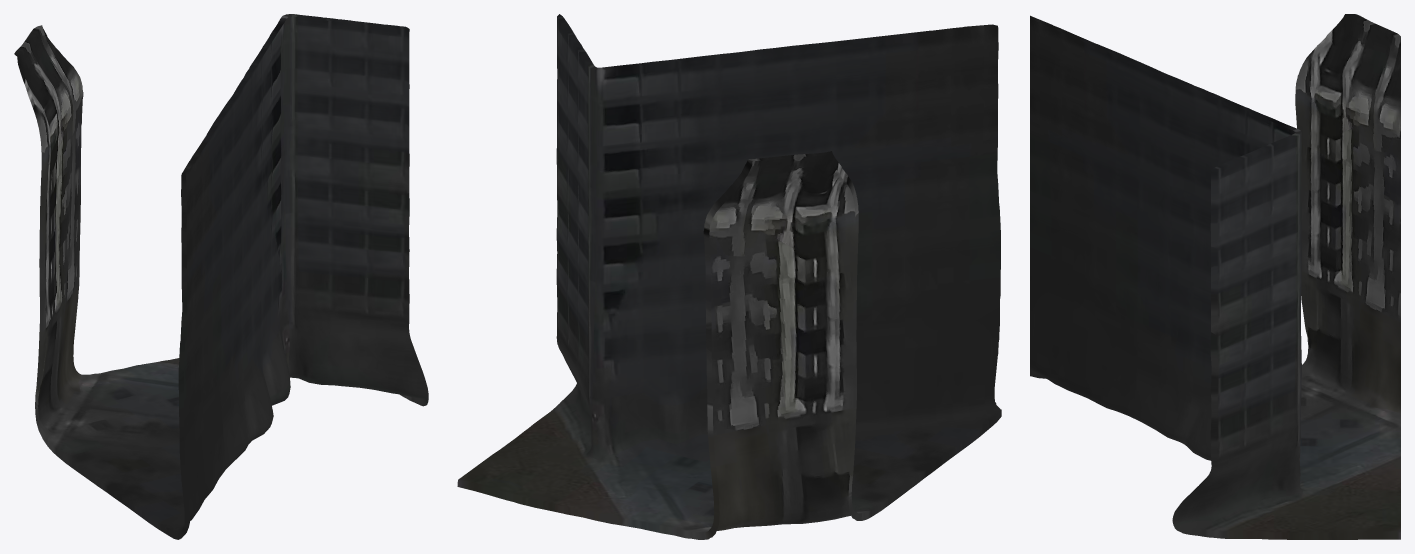
Rendered from z20-167776-405236-h0-yup-uvflip-v3-world.glb.
3 renders of one model, left to right at view 1: azimuth 30°, elevation 25°; view 2: azimuth 150°, elevation 25°; view 3: azimuth 270°, elevation 25°, orthographic. The views are drawn at different scales.
Size of the model in its own units: 30.2 by 33.52 by 30.32.
1 material, 1 textured.
